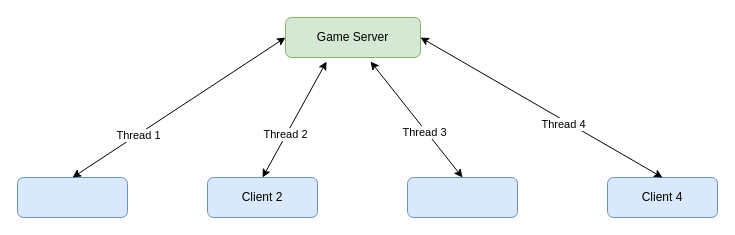
Image size: 735x235. Some labels were removed from this diagram. The shapes that lost their labels are listed below. From the top down, each one's box as (x1, y1, x2, y2) in pixels, then its label:
(16, 176, 128, 218): Client 1
(406, 176, 518, 218): Client 3
